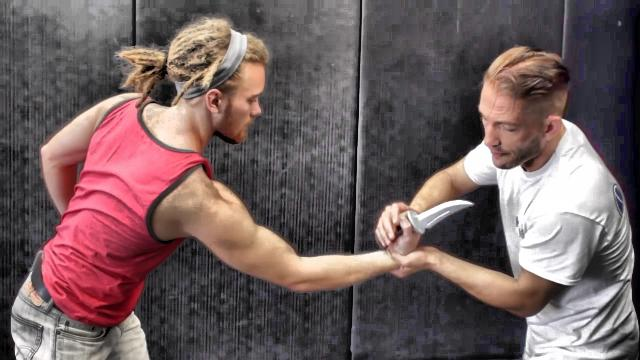knife: (378, 192, 480, 248)
